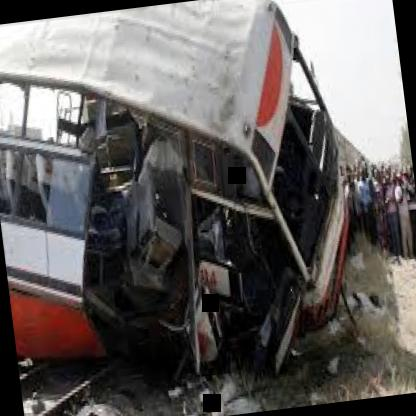accident: (0, 0, 399, 403)
